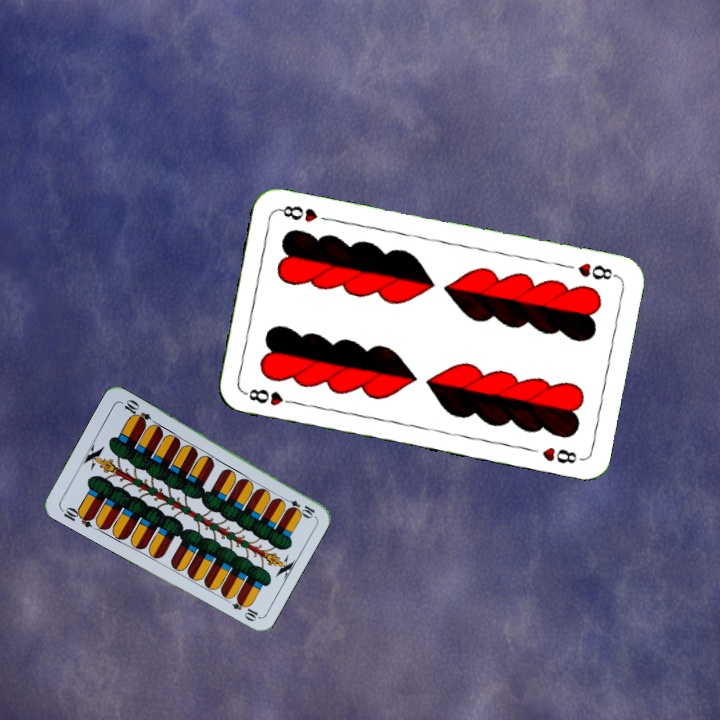E10: (278, 493, 317, 520), (57, 503, 96, 530)
H8: (240, 385, 299, 408), (573, 259, 619, 283)
